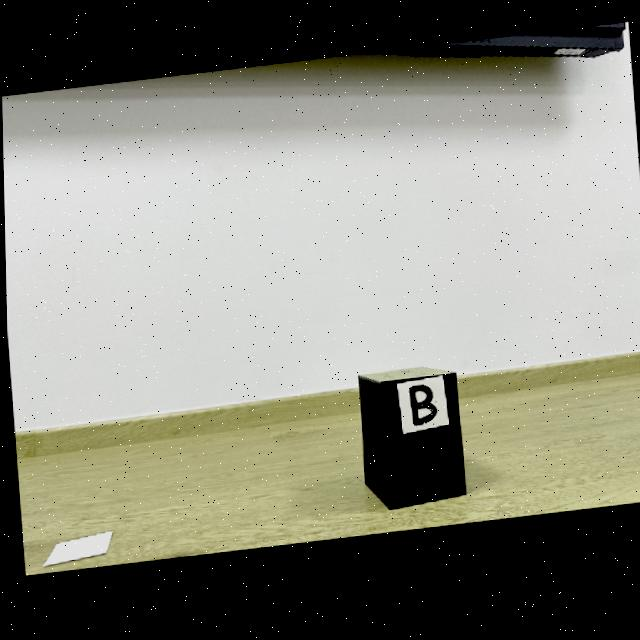B: (408, 391, 435, 432)
